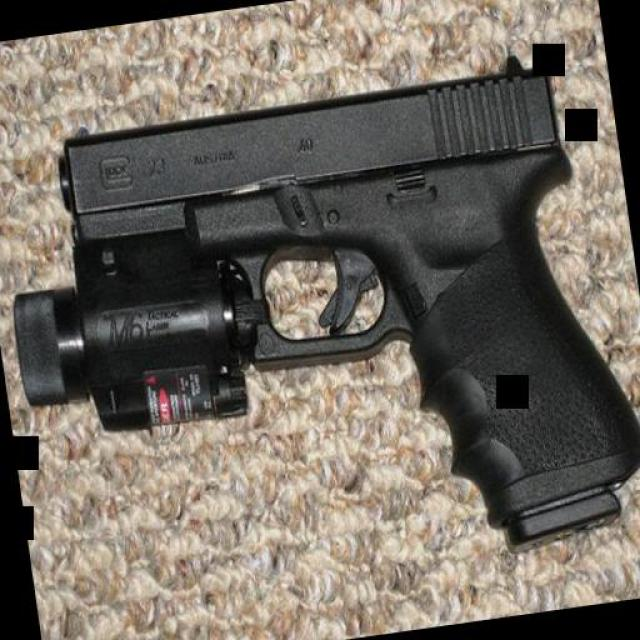gun: (0, 44, 640, 620)
